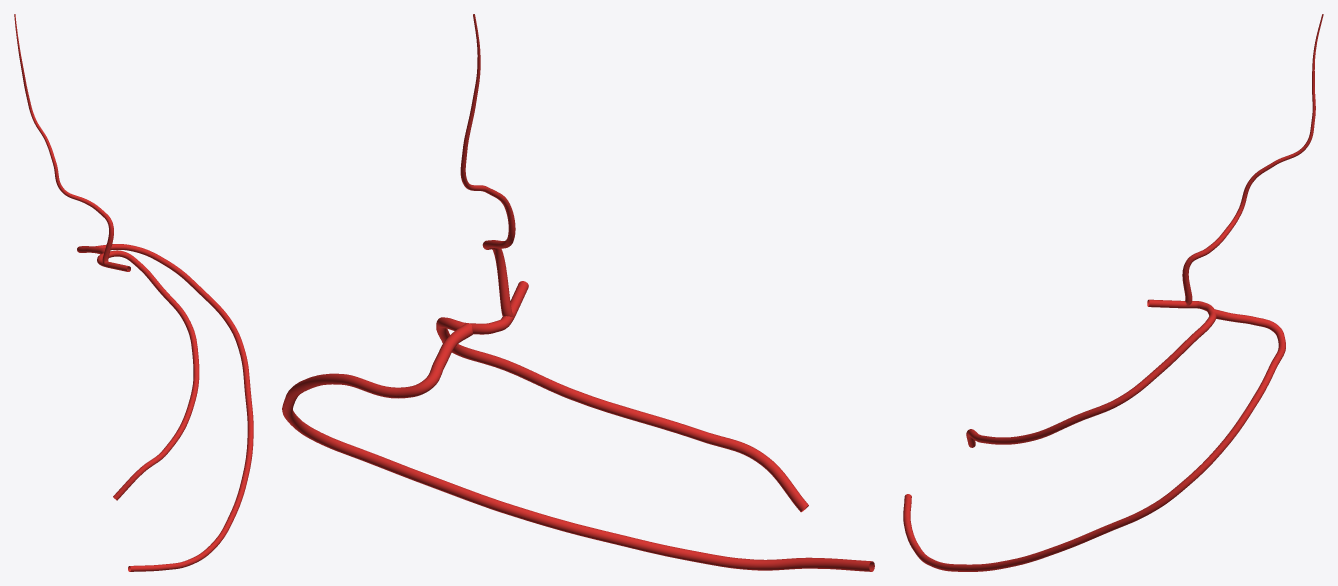
Rendered from circulatorio-costocervical-trunk-l.glb.
The picture shows the model from 3 angles, left to right: view 1: azimuth 30°, elevation 25°; view 2: azimuth 150°, elevation 25°; view 3: azimuth 270°, elevation 25°; orthographic projection. The views are drawn at different scales.
Parts seen in each view (by area): view 1: Second posterior intercostal artery.l, First posterior intercostal artery.l, Deep cervical artery.l; view 2: Second posterior intercostal artery.l, First posterior intercostal artery.l, Deep cervical artery.l; view 3: Second posterior intercostal artery.l, First posterior intercostal artery.l, Deep cervical artery.l.
Part boxes in pixels (x1,y1,x2,y2): Second posterior intercostal artery.l: (77, 244, 253, 571); First posterior intercostal artery.l: (108, 250, 199, 500); Deep cervical artery.l: (14, 14, 113, 265); Second posterior intercostal artery.l: (282, 323, 874, 571); First posterior intercostal artery.l: (436, 317, 808, 512); Deep cervical artery.l: (460, 14, 515, 317); Second posterior intercostal artery.l: (903, 309, 1285, 571); First posterior intercostal artery.l: (966, 310, 1216, 447); Deep cervical artery.l: (1182, 14, 1323, 305).
Bounding box in the file's own units: 0.0822 × 0.1573 × 0.1125.
